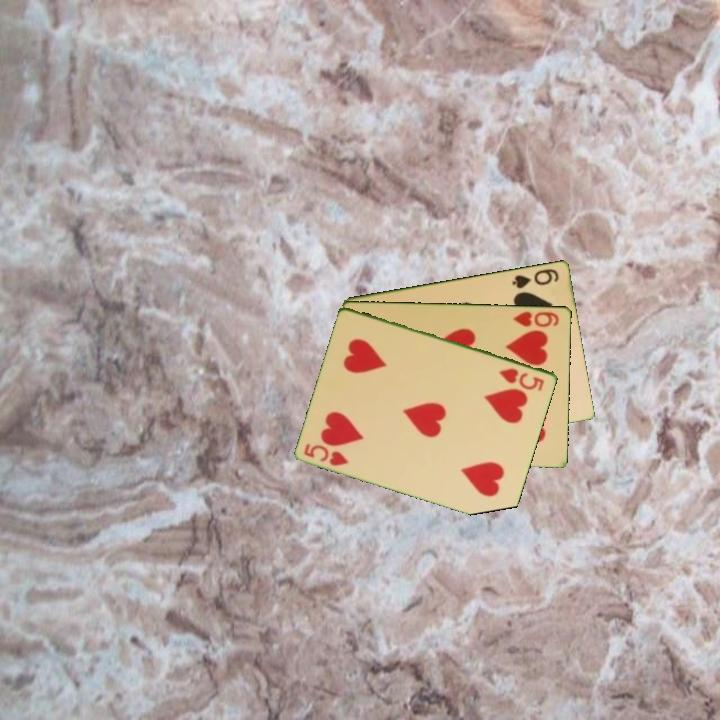5h: (300, 439, 352, 469), (496, 364, 547, 394)
6h: (510, 307, 562, 330)
6s: (509, 265, 562, 291)
